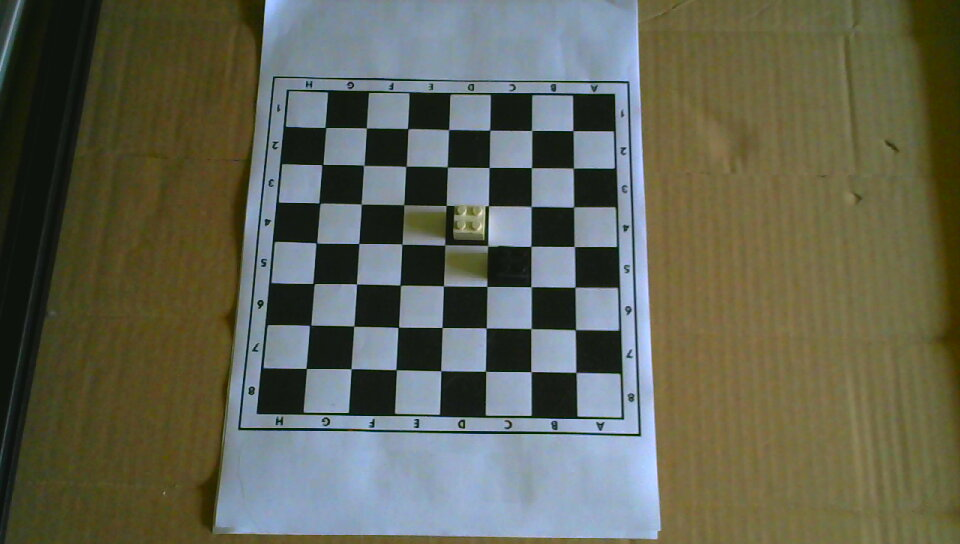bp: (494, 245, 530, 283)
wp: (452, 202, 487, 243)
